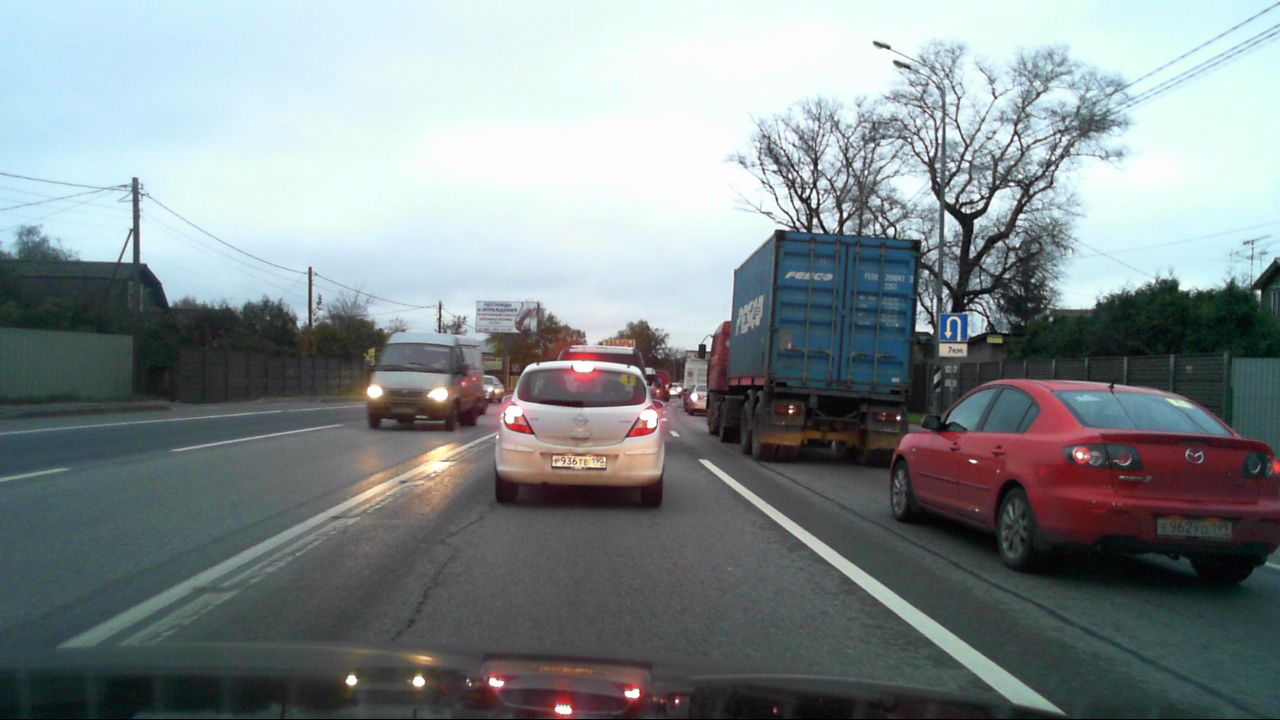U-turn: (940, 314, 968, 342)
